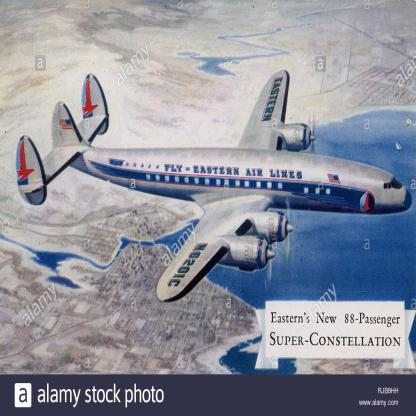CIV_Plane: (12, 56, 412, 320)
